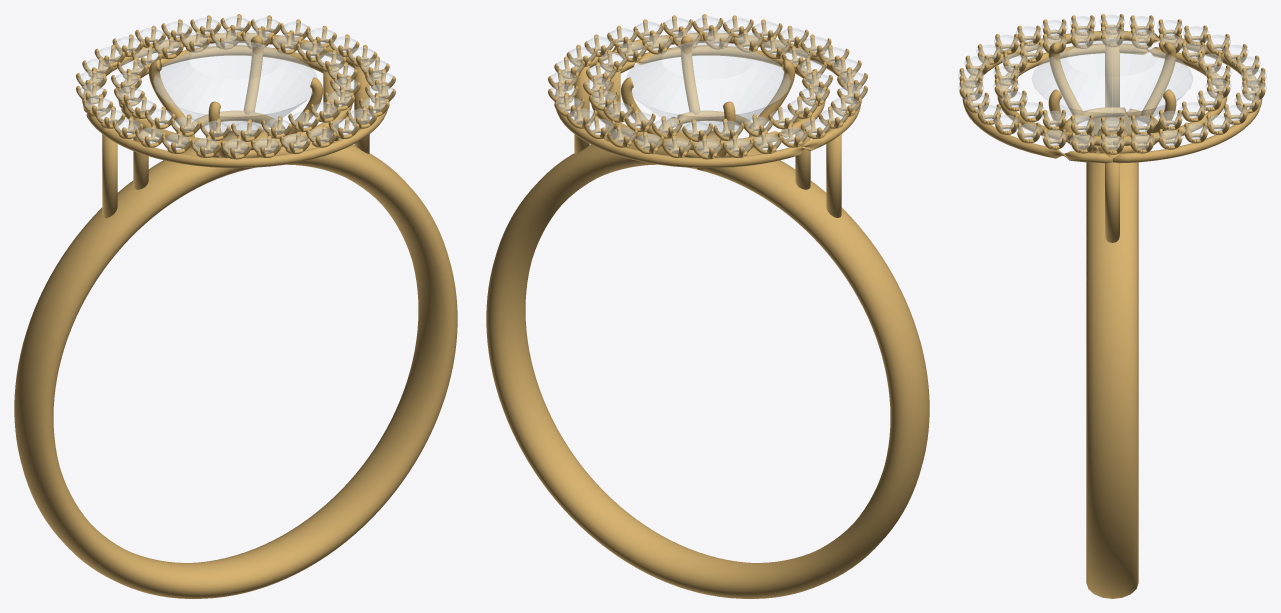
Rendered from layouts-double-halo.glb.
The picture shows the model from 3 angles, left to right: view 1: azimuth 30°, elevation 25°; view 2: azimuth 150°, elevation 25°; view 3: azimuth 270°, elevation 25°; orthographic projection. The views are drawn at different scales.
Visible parts, largest first — view 1: Band, Gem, Bezel rim.001, Bezel rim, Side head support.003, Lower gallery, Prong, Prong.001, Side head support.002, Side head support.001; view 2: Band, Gem, Bezel rim.001, Bezel rim, Side head support.003, Lower gallery, Prong.003, Prong.002, Side head support.002, Side head support.001; view 3: Band, Gem, Bezel rim.001, Bezel rim, Side head support.002, Lower gallery, Side head support.001, Prong.001, Prong.002, Prong.003, Prong.
Part boxes in pixels (box(x1,y1,x2,y2)): Band: box(14, 129, 457, 598); Gem: box(153, 41, 317, 140); Bezel rim.001: box(83, 32, 389, 167); Bezel rim: box(118, 45, 352, 150); Side head support.003: box(102, 121, 117, 217); Lower gallery: box(185, 110, 285, 157); Prong: box(243, 36, 263, 114); Prong.001: box(149, 59, 194, 127); Side head support.002: box(354, 60, 369, 153); Side head support.001: box(133, 111, 148, 189); Band: box(486, 129, 929, 598); Gem: box(626, 41, 790, 140); Bezel rim.001: box(554, 32, 860, 167); Bezel rim: box(591, 45, 825, 150); Side head support.003: box(826, 121, 841, 217); Lower gallery: box(658, 110, 758, 157); Prong.003: box(680, 36, 700, 114); Prong.002: box(749, 59, 794, 127); Side head support.002: box(574, 60, 589, 153); Side head support.001: box(795, 111, 810, 189); Band: box(1086, 115, 1138, 598); Gem: box(1032, 38, 1192, 135); Bezel rim.001: box(962, 31, 1262, 163); Bezel rim: box(997, 43, 1227, 145); Side head support.002: box(1105, 147, 1119, 242); Lower gallery: box(1066, 107, 1158, 153); Side head support.001: box(1105, 40, 1119, 107); Prong.001: box(1141, 42, 1176, 115); Prong.002: box(1048, 42, 1083, 115); Prong.003: box(1048, 89, 1079, 148); Prong: box(1145, 89, 1176, 148).
Size of the model in its own units: 19.6 by 22.94 by 12.39.
